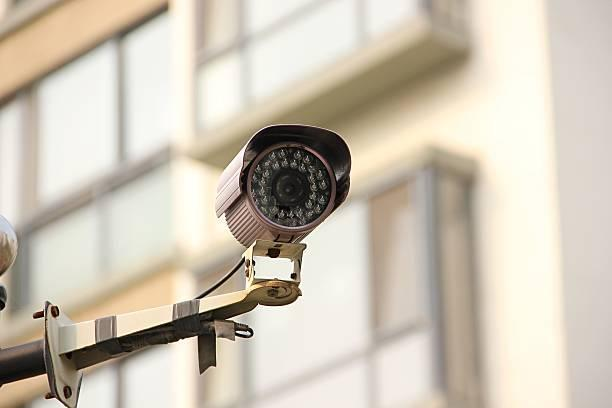camera: (181, 106, 379, 304)
